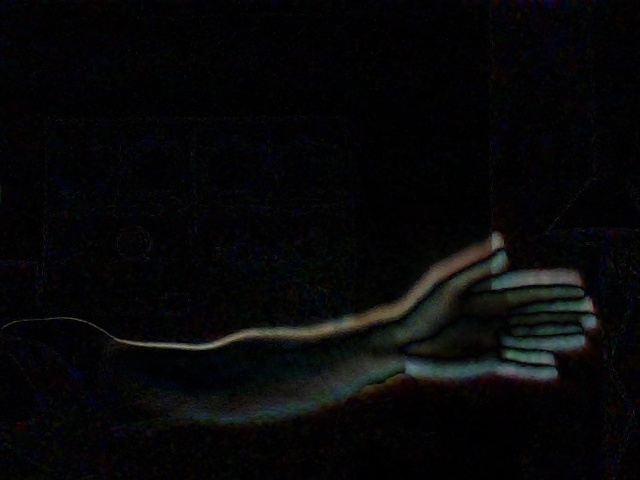hand_pa: (408, 234, 605, 386)
